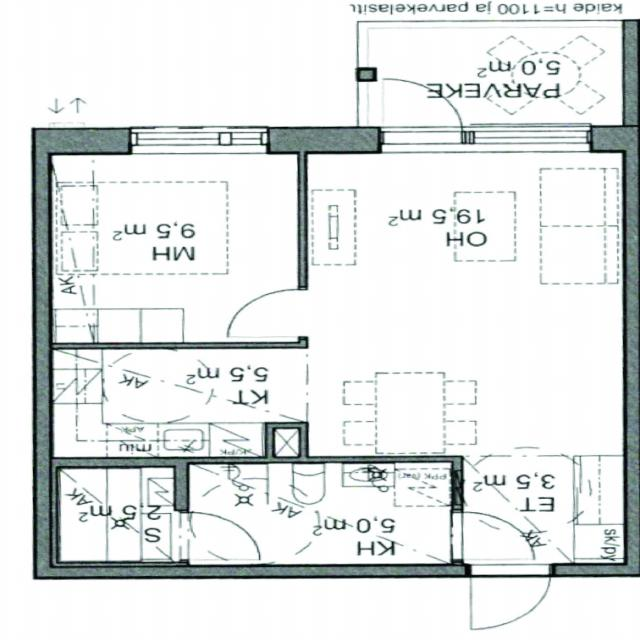door: (382, 75, 460, 151), (468, 563, 551, 630), (451, 513, 532, 561), (226, 289, 306, 336), (174, 512, 253, 556)
